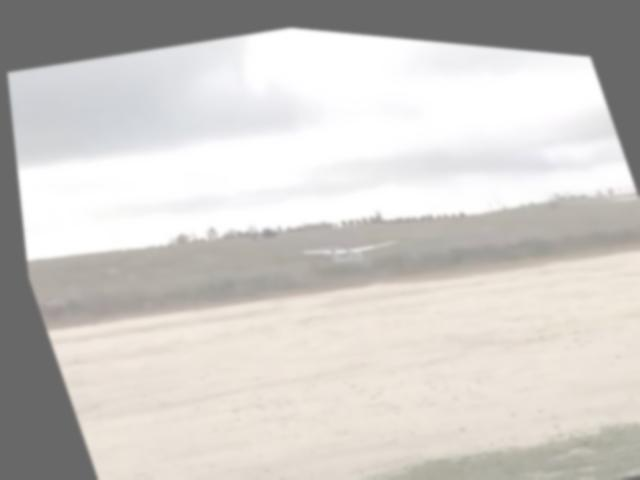iha: (300, 222, 394, 269)
